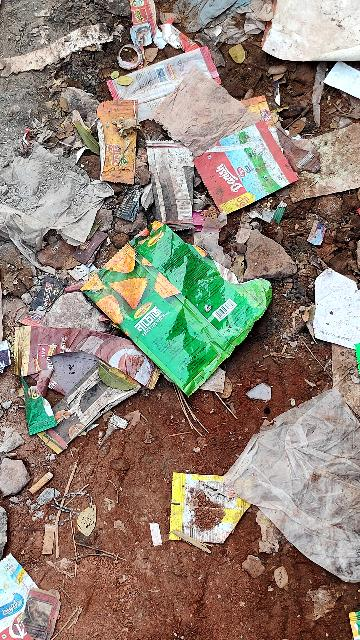packet: (85, 242, 265, 382), (165, 76, 281, 213)
